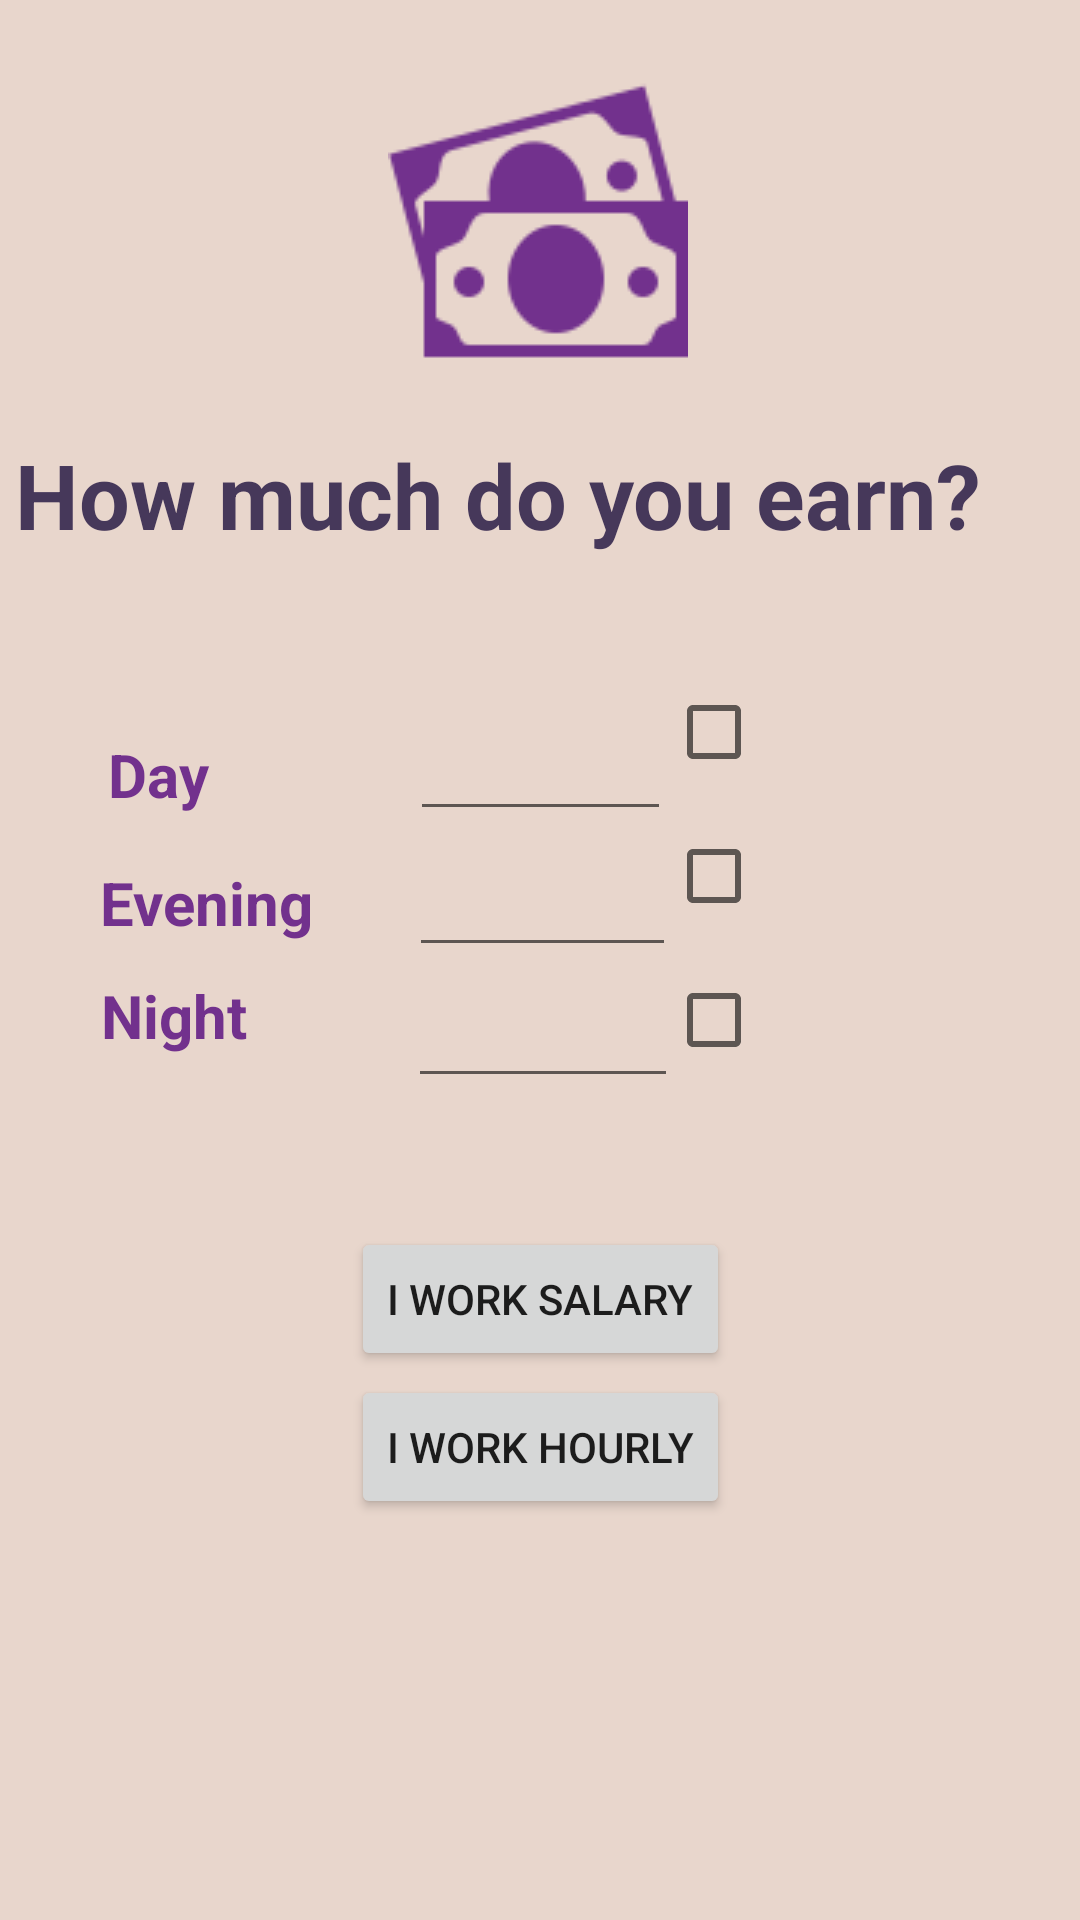

Icon click points for this 1080*1920 phone screenshot, format [x,y]:
earnings page: [538,222]
